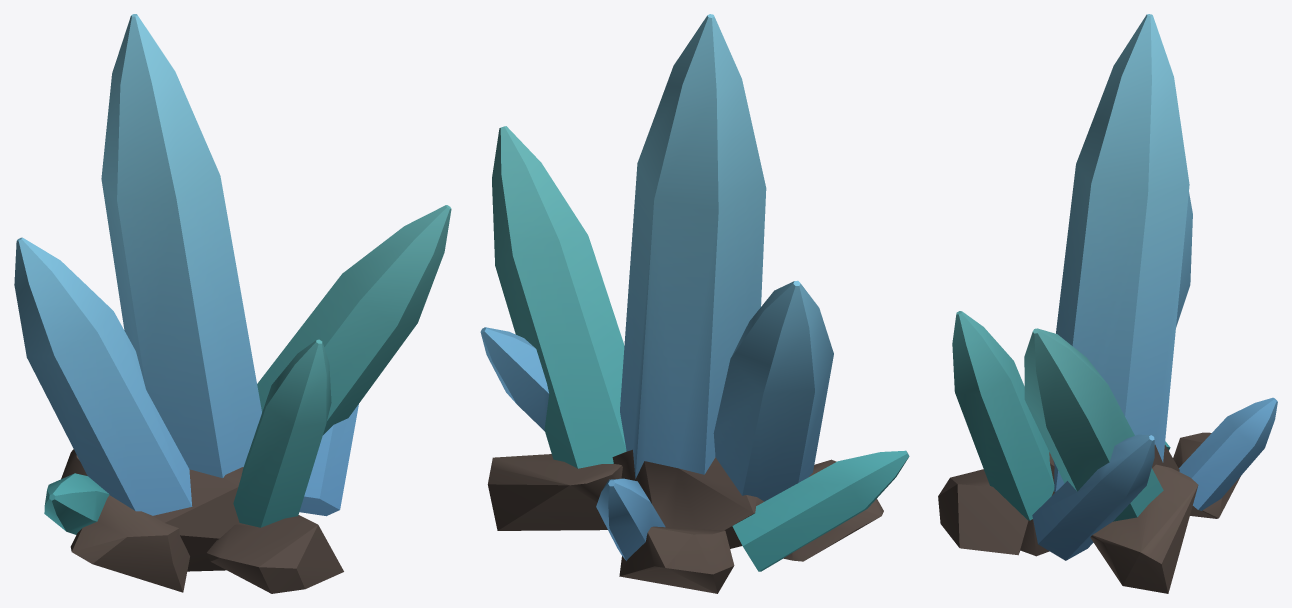
Rendered from crystal_cluster_tall.glb.
3 views of the same model, side by side, from view 1: azimuth 30°, elevation 25°; view 2: azimuth 150°, elevation 25°; view 3: azimuth 270°, elevation 25° (orthographic). The views are drawn at different scales.
Visible parts, largest first — view 1: crystal_cluster_tall; view 2: crystal_cluster_tall; view 3: crystal_cluster_tall.
Boxes of the visible parts, left/top/right/bottom form: crystal_cluster_tall: left=14, top=14, right=451, bottom=593; crystal_cluster_tall: left=480, top=14, right=909, bottom=593; crystal_cluster_tall: left=938, top=14, right=1277, bottom=593.
Bounding box in the file's own units: 2.59 × 3.31 × 2.05.
Materials: 1 (1 with a texture image).
